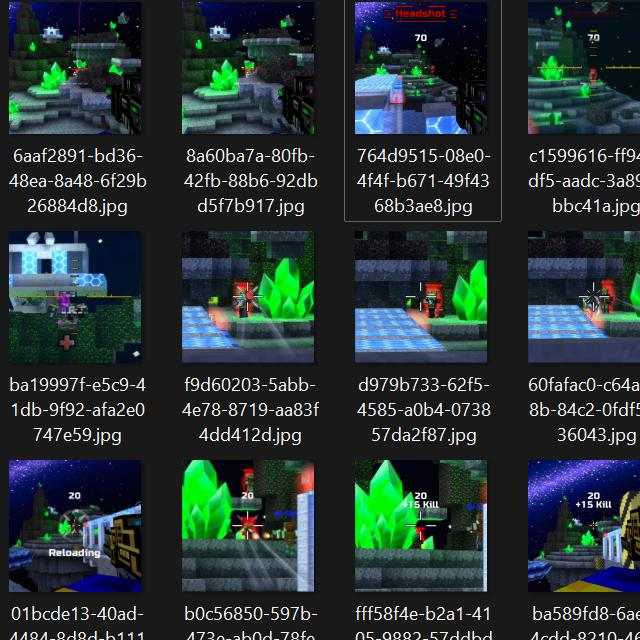Enemy: (235, 290, 252, 318), (597, 285, 613, 314), (425, 289, 440, 317), (242, 475, 251, 498), (243, 524, 255, 539), (240, 527, 252, 541), (416, 531, 424, 544), (591, 70, 597, 82)
